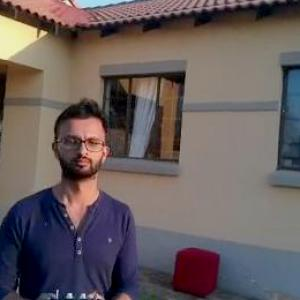follow: (0, 91, 144, 299)
null: (247, 274, 299, 298)
